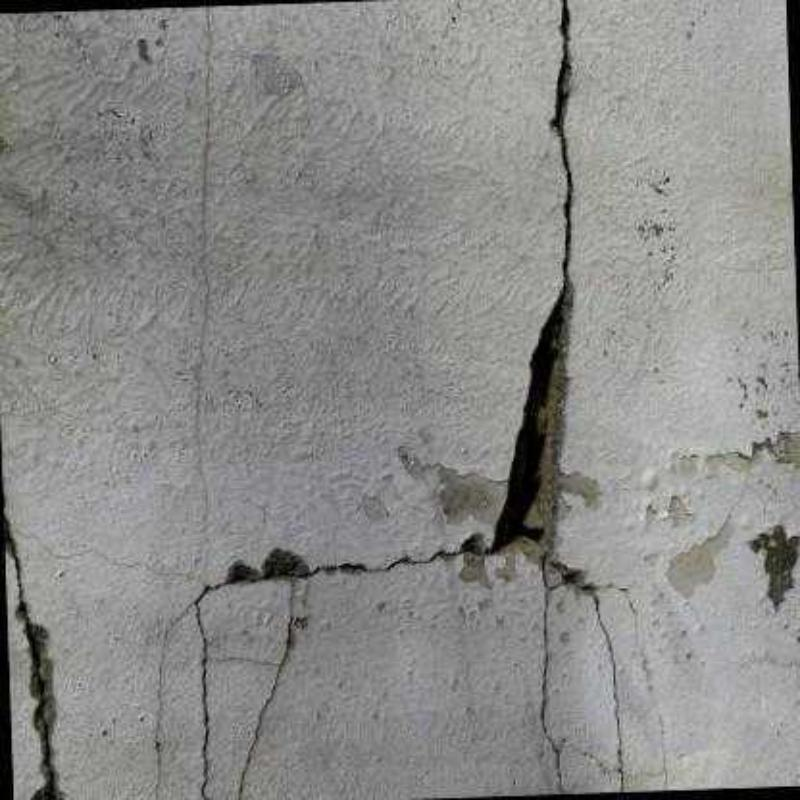pothole: (184, 0, 582, 798), (12, 2, 213, 583), (2, 464, 60, 798), (213, 592, 292, 798), (600, 587, 667, 792), (589, 584, 628, 793), (535, 595, 572, 795), (152, 613, 187, 798), (538, 558, 596, 600)
